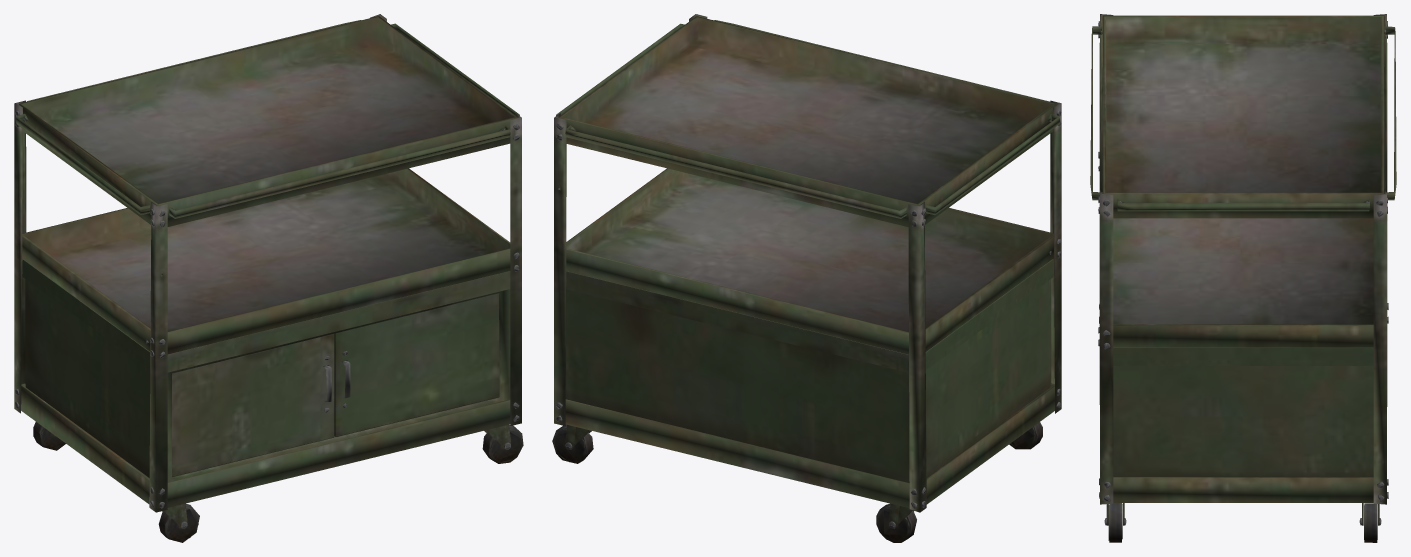
The model's file is cart-industrial.95bf810a.glb.
The picture shows the model from 3 angles, left to right: view 1: azimuth 30°, elevation 25°; view 2: azimuth 150°, elevation 25°; view 3: azimuth 270°, elevation 25°; orthographic projection.
Parts seen in each view (by area): view 1: model; view 2: model; view 3: model.
Part boxes in pixels (x1,y1,x2,y2): model: (14,14,523,542); model: (552,14,1061,542); model: (1090,14,1396,542).
Bounding box in the file's own units: 1.59 × 1.38 × 1.09.
Materials: 1 (1 with a texture image).
